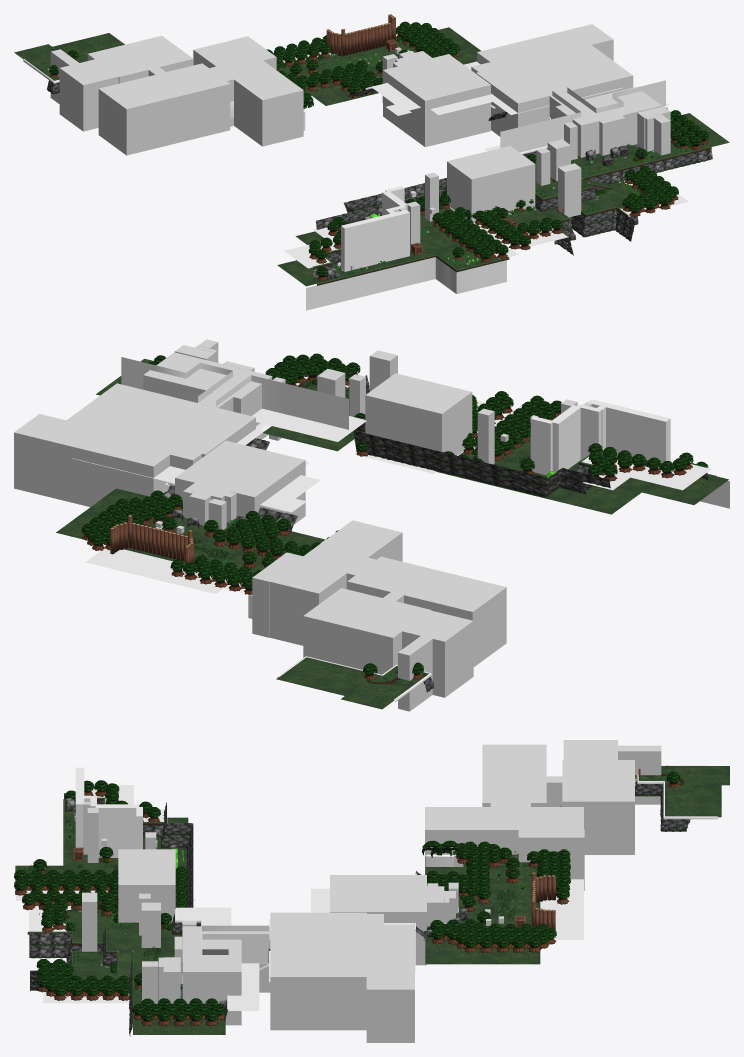
Rendered from Textures.glb.
The picture shows the model from 3 angles, top to bottom: view 1: azimuth 30°, elevation 25°; view 2: azimuth 150°, elevation 25°; view 3: azimuth 270°, elevation 25°; orthographic projection. The views are drawn at different scales.
Visible parts, largest first — view 1: area_stone_.012, area_stone_.005, area_dirt_.012, area_dirt_.018, area_dirt_, floor_dirt_B.030, area_dirt_.003, area_stone_, area_stone_.015, area_stone_.013, area_stone_.006, floor_receive.002 (+23 smaller); view 2: area_stone_.006, area_stone_.005, area_dirt_.018, area_stone_.012, area_stone_.013, area_dirt_, area_dirt_.012, area_stone_.015, area_stone_, floor_receive.002, floor_receive.010, floor_receive.009 (+22 smaller); view 3: area_stone_.005, area_stone_.013, area_stone_.006, area_dirt_.018, floor_receive.009, area_dirt_.012, area_stone_, area_stone_.012, area_dirt_, floor_receive.006, floor_receive.010, area_dirt_.019 (+21 smaller).
Boxes of the visible parts, x1,y1,x2,y2 form: area_stone_.012: [98, 63, 230, 155]; area_stone_.005: [476, 45, 633, 136]; area_dirt_.012: [383, 54, 490, 147]; area_dirt_.018: [193, 39, 303, 146]; area_dirt_: [447, 146, 535, 222]; floor_dirt_B.030: [306, 257, 506, 310]; area_dirt_.003: [341, 210, 409, 271]; area_stone_: [555, 87, 661, 157]; area_stone_.015: [59, 58, 118, 131]; area_stone_.013: [87, 36, 193, 83]; area_stone_.006: [477, 24, 613, 67]; floor_receive.002: [277, 214, 499, 286]; area_stone_.006: [14, 414, 178, 506]; area_stone_.005: [66, 383, 255, 457]; area_dirt_.018: [269, 520, 402, 645]; area_stone_.012: [347, 556, 506, 666]; area_stone_.013: [303, 588, 431, 674]; area_dirt_: [365, 373, 472, 462]; area_dirt_.012: [175, 440, 305, 524]; area_stone_.015: [396, 609, 473, 697]; area_stone_: [143, 352, 272, 439]; floor_receive.002: [455, 438, 728, 514]; floor_receive.010: [276, 657, 428, 709]; floor_receive.009: [56, 488, 325, 574]; area_stone_.005: [270, 912, 366, 1030]; area_stone_.013: [562, 760, 634, 854]; area_stone_.006: [366, 924, 414, 1042]; area_dirt_.018: [425, 807, 583, 874]; floor_receive.009: [425, 855, 540, 964]; area_dirt_.012: [330, 875, 426, 965]; area_stone_: [182, 926, 241, 1025]; area_stone_.012: [482, 744, 546, 806]; area_dirt_: [118, 849, 175, 922]; floor_receive.006: [107, 923, 225, 1034]; floor_receive.010: [638, 766, 729, 817]; area_dirt_.019: [518, 829, 584, 890].
Size of what is drawn, in the model's own units: 92.07 by 13.91 by 108.
Materials: 13 (4 with a texture image).
